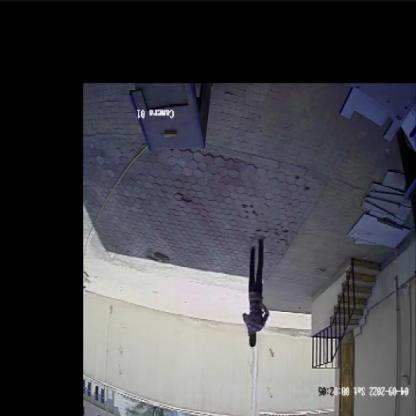handgun: (251, 293, 266, 333)
